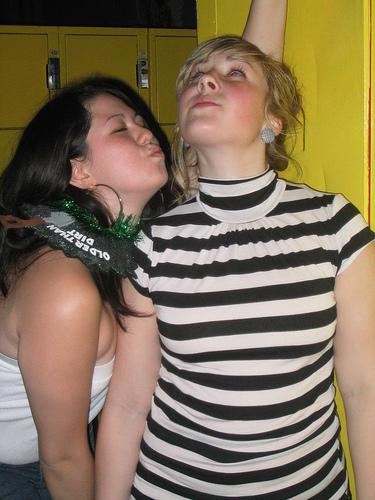without_mask: (70, 93, 168, 208), (179, 52, 282, 156)
